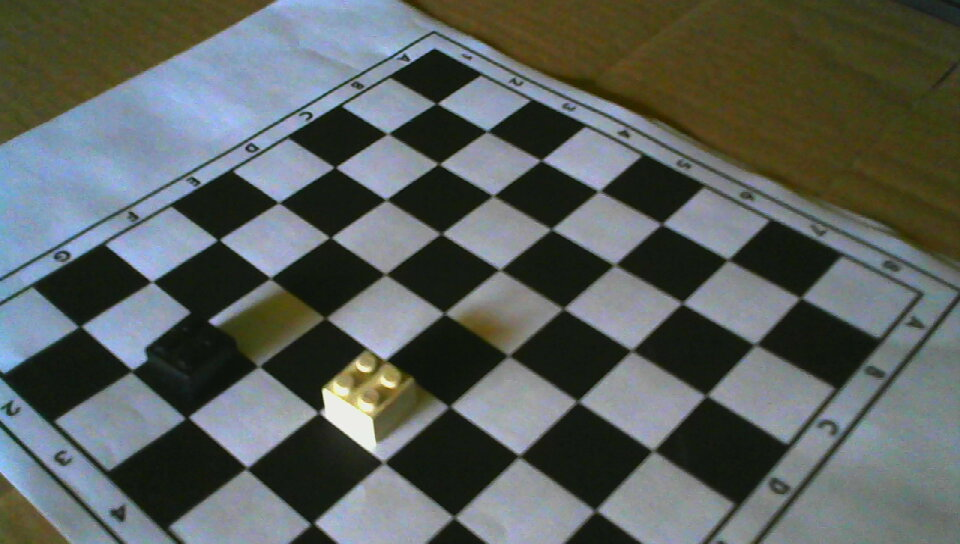bp: (145, 316, 239, 396)
wp: (321, 350, 417, 441)
